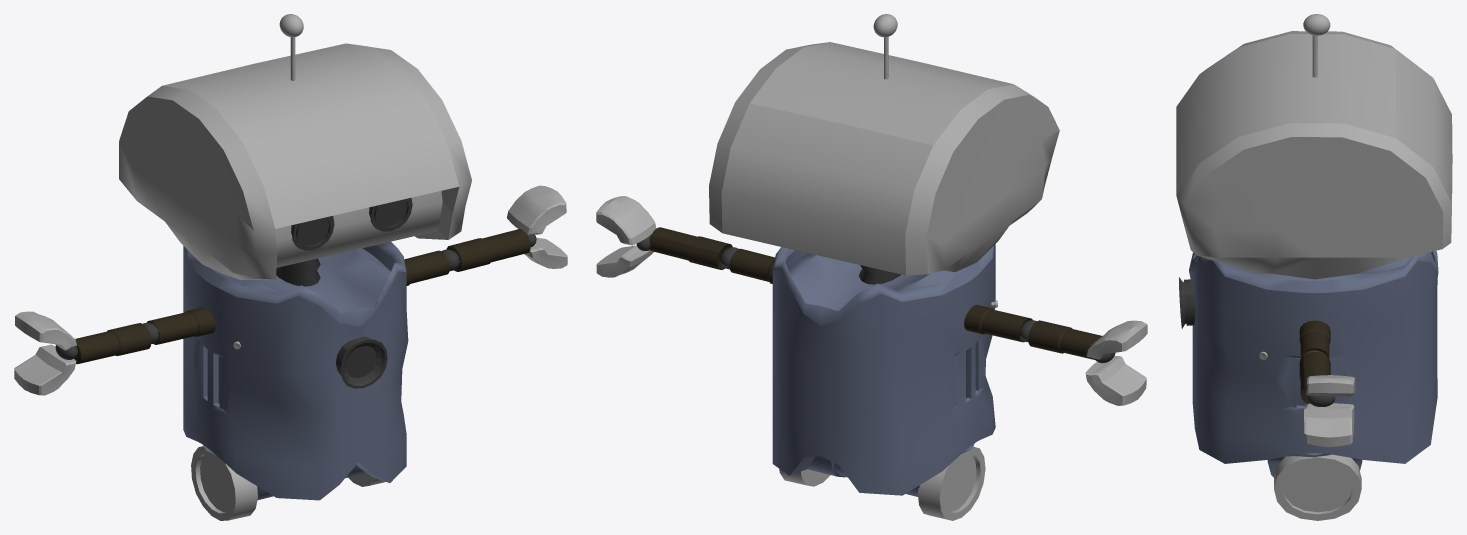
3 views of the same model, side by side, from view 1: azimuth 30°, elevation 25°; view 2: azimuth 150°, elevation 25°; view 3: azimuth 270°, elevation 25° (orthographic). The views are drawn at different scales.
Parts seen in each view (by area): view 1: polySurface2, Chest, Wheels_2, Scanner, RightHnad_1, RightArm5, RightHnad_2, RightArm8, RightArm9, RightHand_2, RightArm4, Eyes1 (+3 smaller); view 2: polySurface2, Chest, Wheels_2, RightHnad_1, RightArm5, RightHnad_2, RightArm8, RightArm9, RightHand_2, RightArm4, RightHand_3; view 3: polySurface2, Chest, Wheels_1, RightHand_3, RightHnad_2, RightArm4, RightArm5, Scanner, AntinaBall, Hips2.
Part boxes in pixels (x1,y1,x2,y2): polySurface2: (119, 43, 471, 279); Chest: (183, 241, 408, 500); Wheels_2: (191, 446, 257, 520); Scanner: (336, 336, 387, 388); RightHnad_1: (14, 344, 76, 395); RightArm5: (446, 229, 530, 271); RightHnad_2: (507, 185, 566, 234); RightArm8: (74, 323, 151, 364); RightArm9: (147, 307, 215, 344); RightHand_2: (15, 311, 76, 350); RightArm4: (404, 250, 449, 285); Eyes1: (291, 216, 334, 250); polySurface2: (709, 42, 1059, 275); Chest: (772, 244, 995, 495); Wheels_2: (917, 446, 985, 520); RightHnad_1: (1085, 356, 1146, 405); RightArm5: (649, 227, 732, 269); RightHnad_2: (596, 196, 656, 245); RightArm8: (1028, 320, 1101, 359); RightArm9: (964, 305, 1032, 342); RightHand_2: (1086, 320, 1147, 359); RightArm4: (729, 248, 774, 283); RightHand_3: (596, 245, 653, 277); polySurface2: (1176, 31, 1452, 279); Chest: (1189, 251, 1438, 463); Wheels_1: (1274, 454, 1361, 520); RightHand_3: (1304, 403, 1354, 447); RightHnad_2: (1306, 375, 1355, 396); RightArm4: (1299, 320, 1330, 358); RightArm5: (1299, 352, 1330, 403); Scanner: (1179, 277, 1195, 328); AntinaBall: (1303, 14, 1330, 35); Hips2: (1267, 453, 1362, 477).
Bounding box in the file's own units: 99.49 × 85.84 × 46.07.
